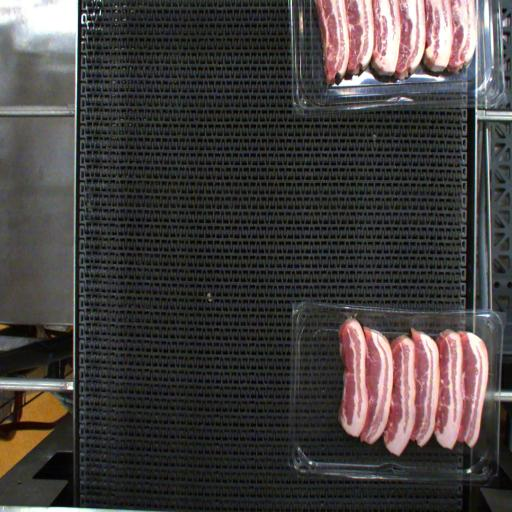packaging-error: (341, 308, 358, 320)
